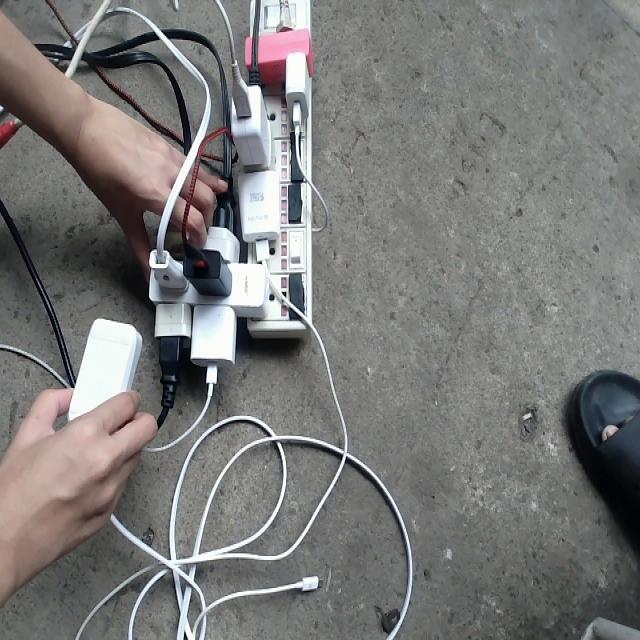-: (146, 0, 313, 407)
